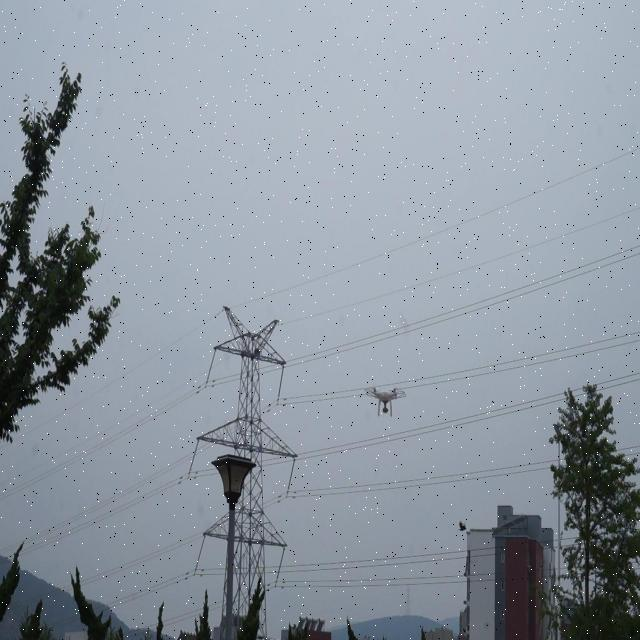UAV: (364, 384, 406, 417)
